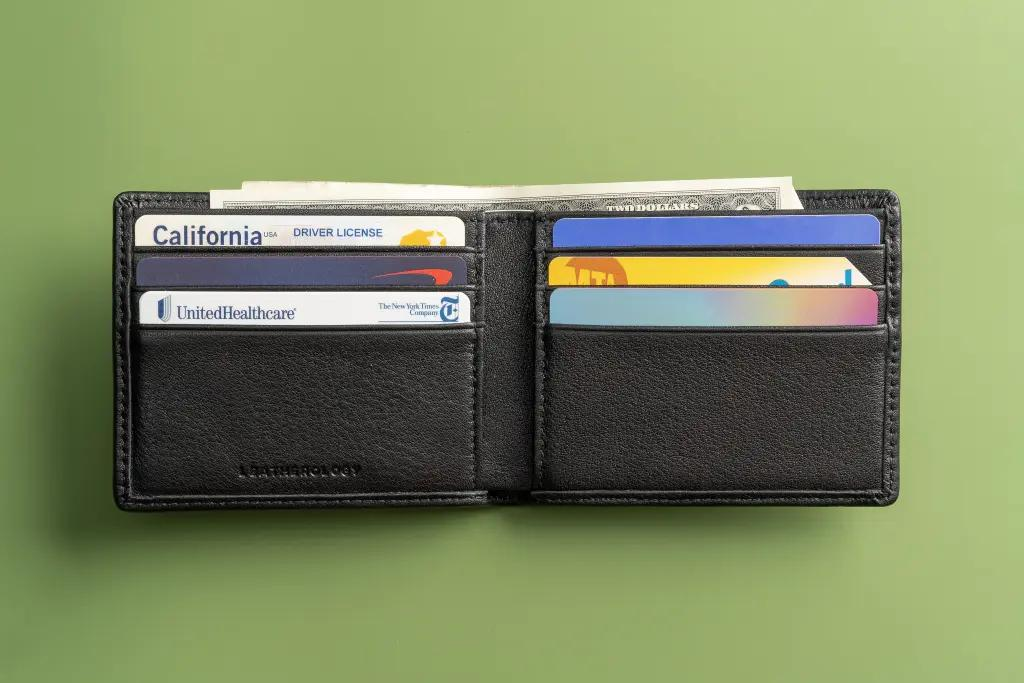Wallet: (112, 178, 900, 510)
